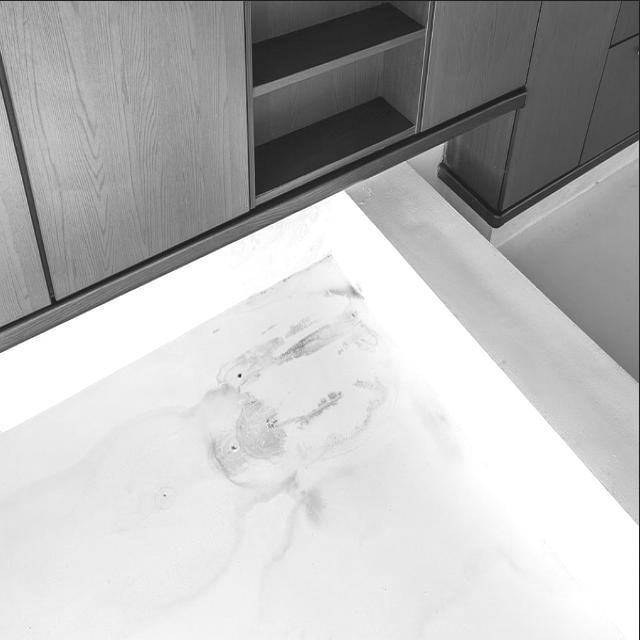pin holes: (262, 414, 284, 434), (228, 438, 240, 452), (159, 487, 168, 503), (236, 368, 244, 381)
stain marks: (0, 230, 402, 640), (191, 386, 352, 486), (222, 310, 378, 382), (252, 492, 335, 557), (407, 387, 474, 459), (324, 276, 368, 301)
